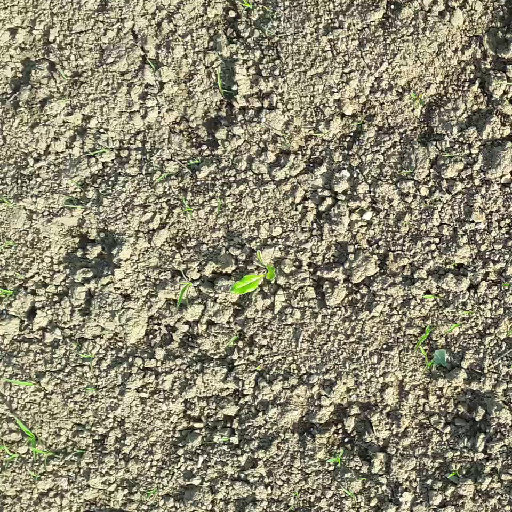sugarbeet: (228, 247, 284, 294)
weed: (1, 413, 95, 485), (414, 323, 445, 369), (172, 267, 200, 311), (212, 67, 235, 102), (320, 444, 346, 470), (338, 481, 356, 508), (1, 374, 35, 388), (179, 199, 193, 219), (411, 88, 427, 105), (421, 289, 447, 299), (445, 319, 466, 331), (78, 350, 96, 363), (449, 467, 464, 481), (1, 285, 16, 298), (240, 1, 252, 14)
